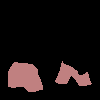shorts: (8, 61, 43, 92), (54, 60, 92, 86)
